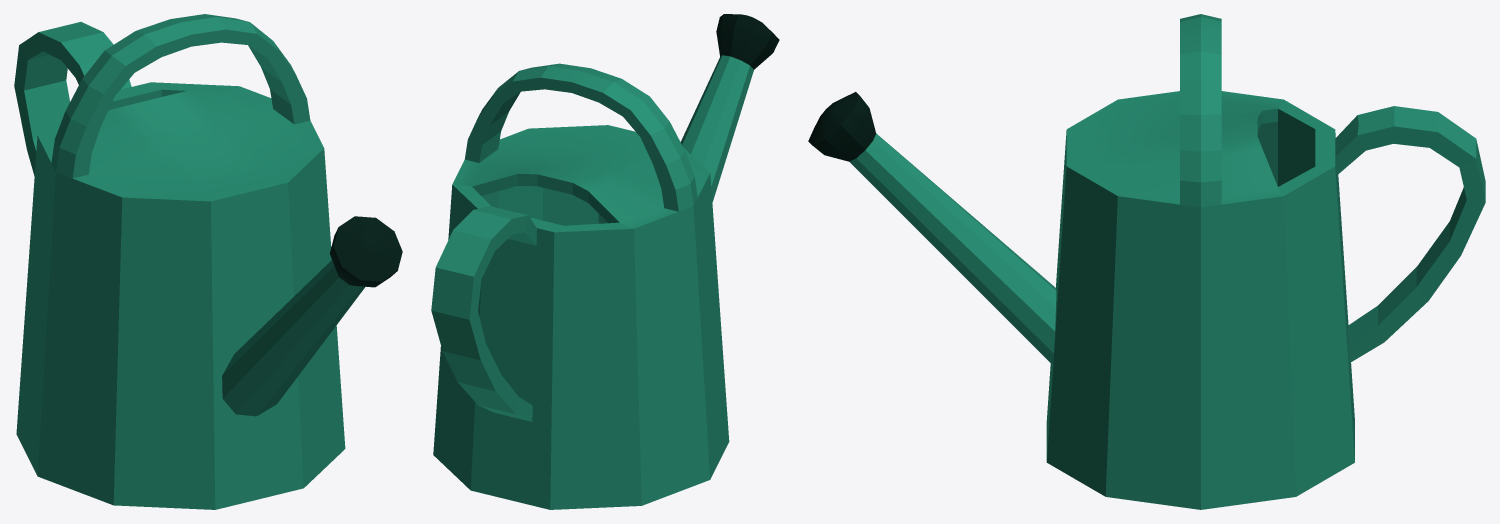
File: RegaderaVersRota.fbx
3 views of the same model, side by side, from view 1: azimuth 30°, elevation 25°; view 2: azimuth 150°, elevation 25°; view 3: azimuth 270°, elevation 25° (orthographic). The views are drawn at different scales.
Parts seen in each view (by area): view 1: baseRota, trompaRota, manijaRota; view 2: baseRota, manijaRota, trompaRota; view 3: baseRota, trompaRota, manijaRota.
Boxes of the visible parts, x1,y1,x2,y2 form: baseRota: (16,14,345,509); trompaRota: (222,216,402,416); manijaRota: (14,22,131,176); baseRota: (433,63,729,509); manijaRota: (431,206,536,421); trompaRota: (680,14,779,202); baseRota: (1046,14,1354,509); trompaRota: (808,92,1056,364); manijaRota: (1335,106,1485,363).
Bounding box in the file's own units: 17.33 × 24.23 × 36.24.
